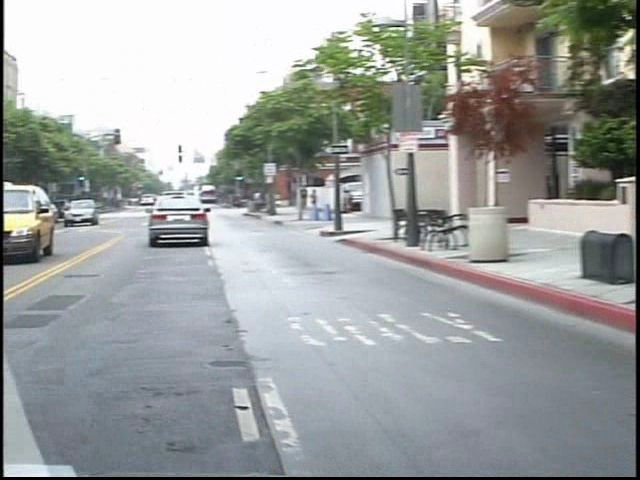person: (295, 187, 310, 221)
